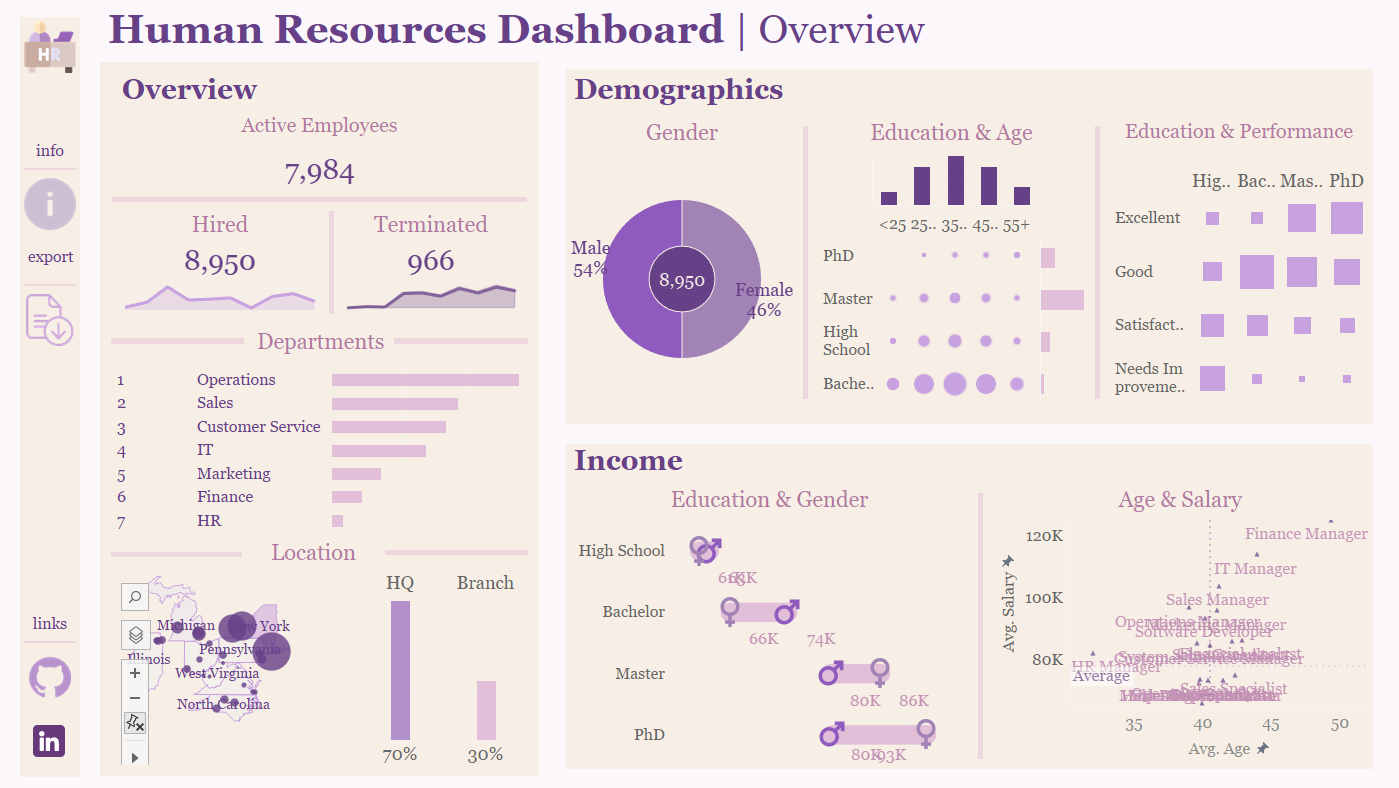

The page's visual inventory and layout, read from the dashboard file:
{"tool":"tableau","page":{"name":"HR Summary","canvas":[1400,800],"ordinal":0},"visuals":[{"type":"text","box":[100,0,986,65]},{"type":"blank","box":[1086,0,294,65]},{"type":"image","param":"Image/hr.png","box":[20,20,60,60]},{"type":"text","box":[107,72,425,40]},{"type":"blank","box":[108,72,1258,272]},{"type":"text","box":[566,72,807,40]},{"type":"blank","box":[20,80,60,60]},{"type":"text","box":[107,112,425,32]},{"type":"text","box":[566,119,232,33]},{"type":"blank","box":[803,119,5,293]},{"type":"text","box":[813,119,277,33]},{"type":"blank","box":[1095,119,5,293]},{"type":"text","box":[1105,119,268,31]},{"type":"text","box":[20,140,60,27]},{"type":"worksheet","title":"BAN Active","mark":"Text","box":[107,144,425,56]},{"type":"worksheet","title":"Education vs Performance","mark":"Square","rows":["Performance Rating"],"cols":["Education Level"],"box":[1105,150,268,262]},{"type":"worksheet","title":"Gender","mark":"Pie","cols":["Calculation_1151514186348470273","Calculation_1151514186348470273"],"box":[566,152,232,260]},{"type":"worksheet","title":"Age Groups","mark":"Bar","rows":["Calculation_321725954346987520"],"cols":["Calculation_1595681699664830465"],"box":[813,152,277,61]},{"type":"blank","box":[20,167,60,10]},{"type":"dashboard-object","box":[20,177,60,60]},{"type":"blank","box":[107,200,425,5]},{"type":"text","box":[111,209,218,34]},{"type":"blank","box":[329,209,5,108]},{"type":"text","box":[334,209,193.9,34]},{"type":"worksheet","title":"Age vs Education","mark":"Circle","rows":["Education Level"],"cols":["Calculation_1595681699664830465"],"box":[813,213,223,199]},{"type":"worksheet","title":"Education Level","mark":"Bar","rows":["Education Level"],"cols":["Calculation_321725954346987520"],"box":[1036,213,54,199]},{"type":"text","box":[20,237,60,46]},{"type":"worksheet","title":"BAN Hired","mark":"Text","box":[111,243,218,40]},{"type":"worksheet","title":"BAN Terminated","mark":"Text","box":[334,243,193.9,40]},{"type":"blank","box":[20,283,60,10]},{"type":"worksheet","title":"Hired by year","mark":"Line","rows":["Calculation_321725954346987520","Calculation_321725954346987520"],"cols":["Hiredate"],"box":[111,283,218,34]},{"type":"worksheet","title":"Terminated by year","mark":"Line","rows":["Calculation_321725954347077633","Calculation_321725954347077633"],"cols":["Termdate"],"box":[334,283,193.9,34]},{"type":"dashboard-object","box":[20,293,60,60]},{"type":"blank","box":[107,321,141,46]},{"type":"text","box":[248,321,142,46]},{"type":"blank","box":[390,321,142,46]},{"type":"text","box":[108,344,1258,146]},{"type":"blank","box":[20,353,60,260]},{"type":"worksheet","title":"Departments","mark":"Bar","rows":["Calculation_321725954356400132","Department"],"cols":["Calculation_321725954346987520"],"box":[107,367,425,172]},{"type":"text","box":[566,447,807,32]},{"type":"text","box":[566,486,407,33]},{"type":"blank","box":[978,486,5,286]},{"type":"text","box":[988,486,385,33]},{"type":"blank","box":[108,490,1258,239]},{"type":"worksheet","title":"Gender vs Education level","mark":"Square","rows":["Education Level"],"cols":["Salary","Salary"],"box":[566,519,407,253]},{"type":"worksheet","title":"Age vs Salary","mark":"Shape","rows":["Salary"],"cols":["Calculation_1595681699664125952"],"box":[988,519,385,253]},{"type":"blank","box":[107,539,139,33]},{"type":"text","box":[246,539,135,33]},{"type":"blank","box":[381,539,151,33]},{"type":"worksheet","title":"Map states","mark":"Multipolygon","box":[107,572,246,200]},{"type":"worksheet","title":"Location","mark":"Bar","rows":["Calculation_321725954346987520"],"cols":["Calculation_321725954357362694","Calculation_1595681699686334466"],"box":[353,572,179,200]},{"type":"text","box":[20,613,60,27]},{"type":"blank","box":[20,640,60,10]},{"type":"image","param":"Image/github.png","box":[20,650,60,60]},{"type":"image","param":"Image/linkedin (2).png","box":[20,710,60,60]}]}

Visuals, with their boxes on the page's 1400x800 design canvas (x1, y1, x2, y2). These are canvas units, not pixel positions in the 1399x788 screenshot, which may show the page scaled, cropped or inside an application window:
text: 100,0,1086,65
blank: 1086,0,1380,65
image: 20,20,80,80
text: 107,72,532,112
blank: 108,72,1366,344
text: 566,72,1373,112
blank: 20,80,80,140
text: 107,112,532,144
text: 566,119,798,152
blank: 803,119,808,412
text: 813,119,1090,152
blank: 1095,119,1100,412
text: 1105,119,1373,150
text: 20,140,80,167
"BAN Active" worksheet (Text marks): 107,144,532,200
"Education vs Performance" worksheet (Square marks): 1105,150,1373,412
"Gender" worksheet (Pie marks): 566,152,798,412
"Age Groups" worksheet (Bar marks): 813,152,1090,213
blank: 20,167,80,177
dashboard-object: 20,177,80,237
blank: 107,200,532,205
text: 111,209,329,243
blank: 329,209,334,317
text: 334,209,528,243
"Age vs Education" worksheet (Circle marks): 813,213,1036,412
"Education Level" worksheet (Bar marks): 1036,213,1090,412
text: 20,237,80,283
"BAN Hired" worksheet (Text marks): 111,243,329,283
"BAN Terminated" worksheet (Text marks): 334,243,528,283
blank: 20,283,80,293
"Hired by year" worksheet (Line marks): 111,283,329,317
"Terminated by year" worksheet (Line marks): 334,283,528,317
dashboard-object: 20,293,80,353
blank: 107,321,248,367
text: 248,321,390,367
blank: 390,321,532,367
text: 108,344,1366,490
blank: 20,353,80,613
"Departments" worksheet (Bar marks): 107,367,532,539
text: 566,447,1373,479
text: 566,486,973,519
blank: 978,486,983,772
text: 988,486,1373,519
blank: 108,490,1366,729
"Gender vs Education level" worksheet (Square marks): 566,519,973,772
"Age vs Salary" worksheet (Shape marks): 988,519,1373,772
blank: 107,539,246,572
text: 246,539,381,572
blank: 381,539,532,572
"Map states" worksheet (Multipolygon marks): 107,572,353,772
"Location" worksheet (Bar marks): 353,572,532,772
text: 20,613,80,640
blank: 20,640,80,650
image: 20,650,80,710
image: 20,710,80,770
